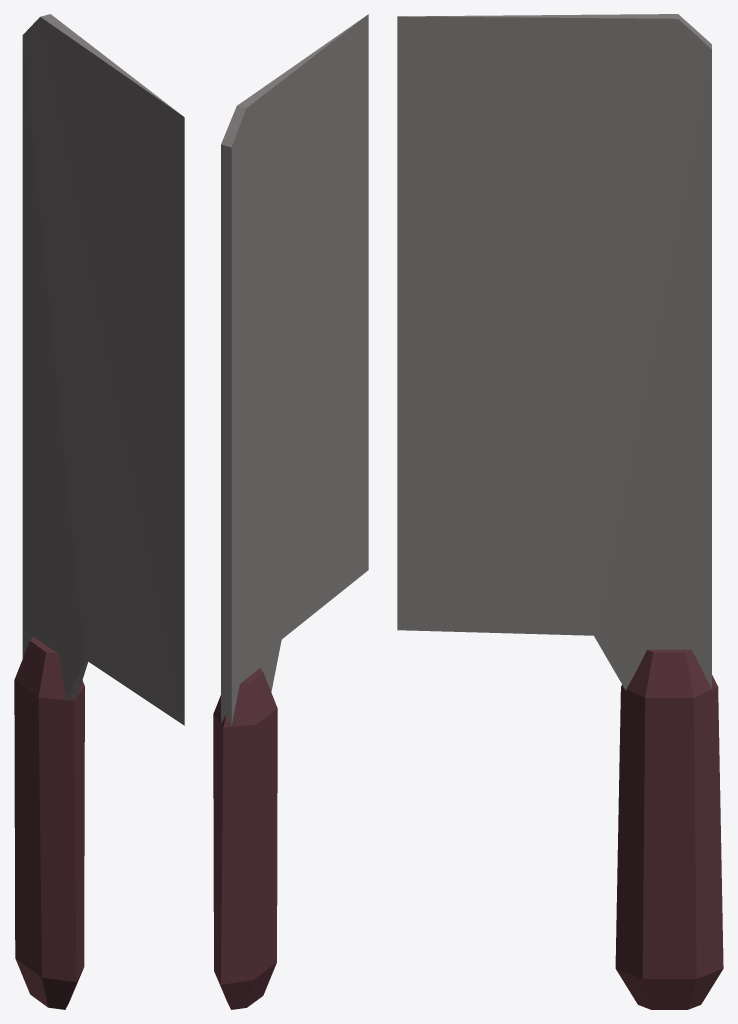
File: knife-kitchen-chopper.fbx
3 views of the same model, side by side, from view 1: azimuth 30°, elevation 25°; view 2: azimuth 150°, elevation 25°; view 3: azimuth 270°, elevation 25° (orthographic). The views are drawn at different scales.
Parts seen in each view (by area): view 1: knife-kitchen-chopper; view 2: knife-kitchen-chopper; view 3: knife-kitchen-chopper.
Part boxes in pixels (x1=…): knife-kitchen-chopper: x1=14, y1=14, x2=184, y2=1009; knife-kitchen-chopper: x1=213, y1=14, x2=368, y2=1009; knife-kitchen-chopper: x1=397, y1=14, x2=723, y2=1009.
Size of the model in its own units: 0.0123 by 0.2487 by 0.0743.
